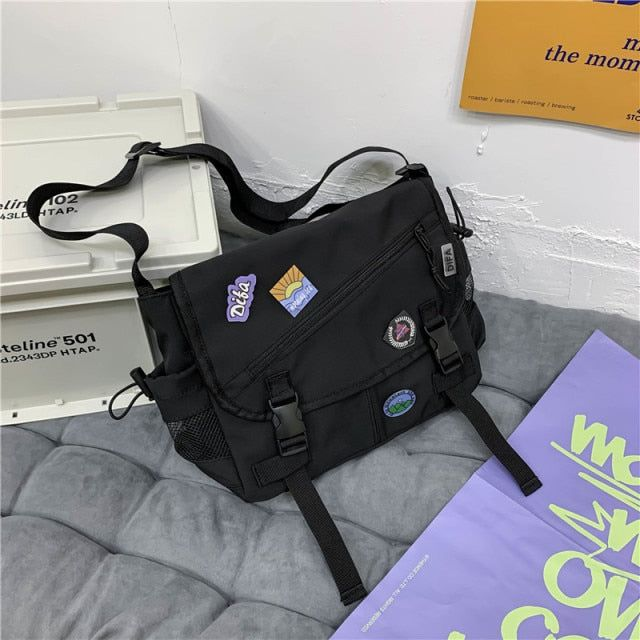nylon: (27, 141, 543, 607)
